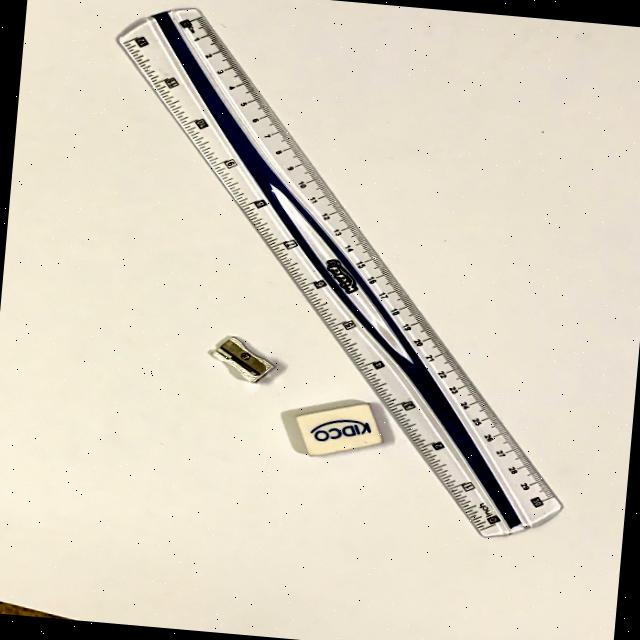Eraser: (280, 389, 410, 470)
Scale: (88, 0, 606, 560)
Sharpner: (199, 327, 295, 402)
